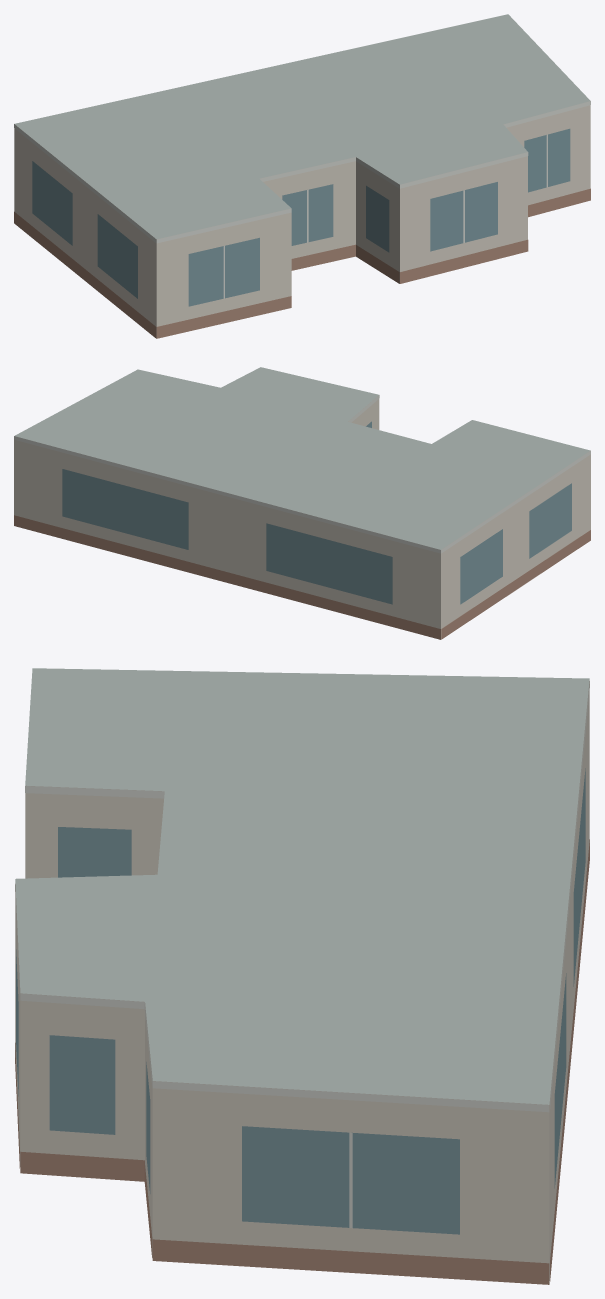
The model's file is survey-upis-32930929.glb.
3 renders of one model, top to bottom at view 1: azimuth 30°, elevation 25°; view 2: azimuth 150°, elevation 25°; view 3: azimuth 270°, elevation 25°, orthographic. The views are drawn at different scales.
Parts seen in each view (by area): view 1: survey-upis-32930929.tmp; view 2: survey-upis-32930929.tmp; view 3: survey-upis-32930929.tmp.
Part boxes in pixels (x1,y1,x2,y2): survey-upis-32930929.tmp: (14, 14, 590, 338); survey-upis-32930929.tmp: (14, 367, 590, 639); survey-upis-32930929.tmp: (15, 668, 589, 1284).
Bounding box in the file's own units: 15.9 × 3.05 × 8.84.
